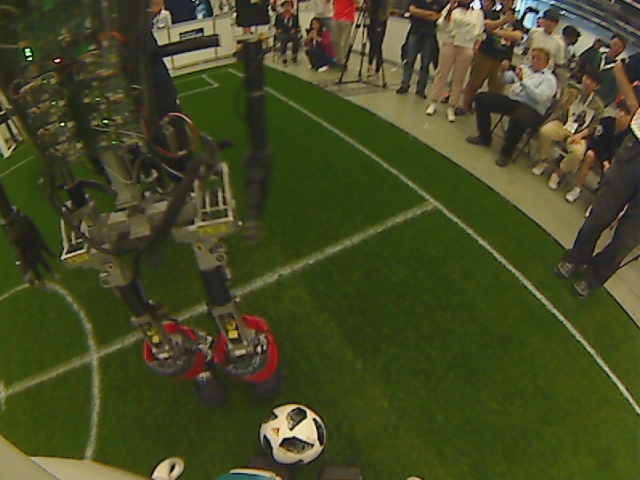ball: (259, 401, 328, 467)
robot: (190, 344, 285, 415)
